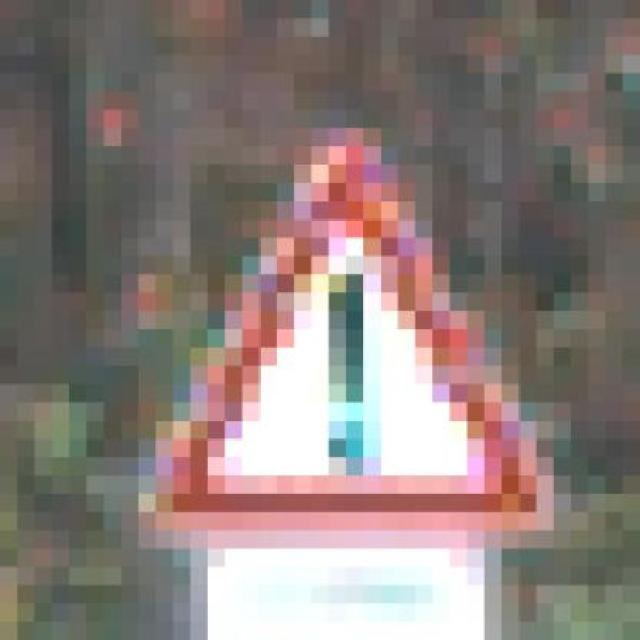Attention Please-: (69, 91, 588, 548)
